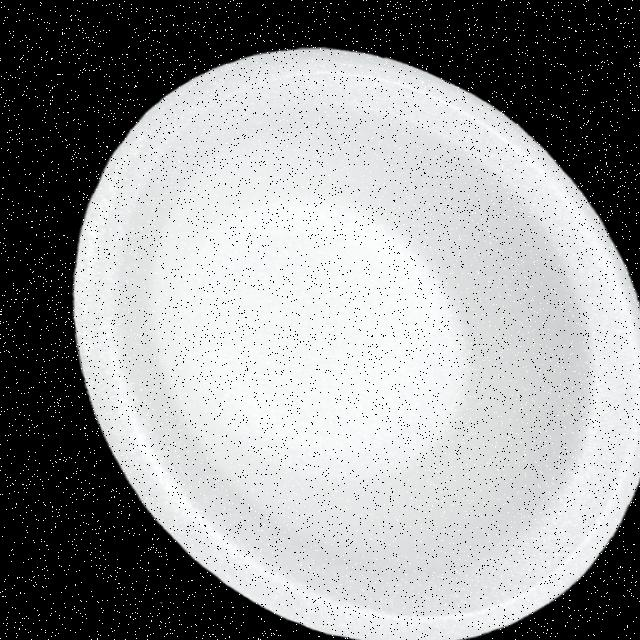foam: (0, 2, 640, 640)
